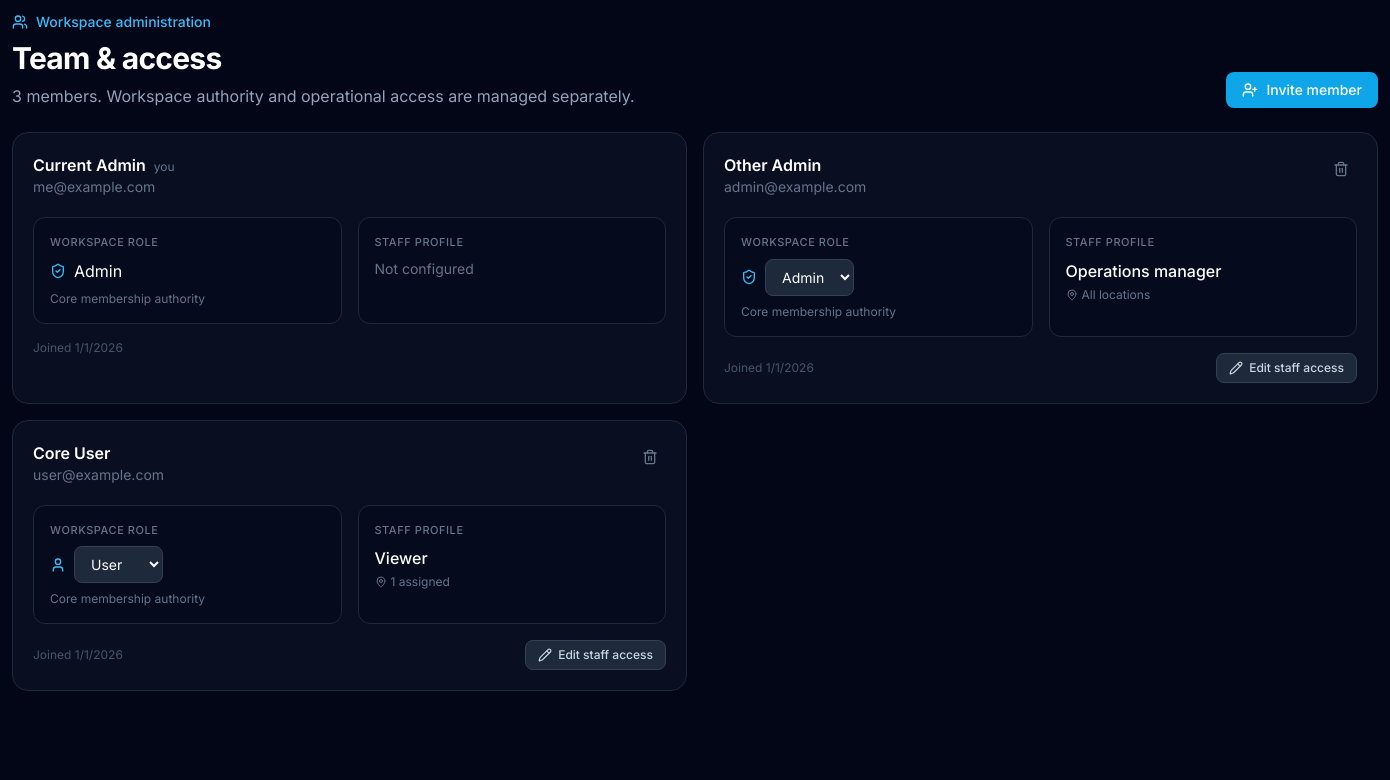
Test case: TeamPage workspace restrictions › allows owners to edit non-owner profiles and disables role controls while saving
The width and height of the screenshot is (1390, 780).
Check: the heading "Other Admin" is shown, box [724,155,821,175]
Check: the number of buttons "Edit staff access" is 2, box [1216,352,1357,382]; [525,640,666,670]
Select "User" in the dropdown named "Workspace role for Other Admin". click: (810,277)
box: [765,258,854,296]
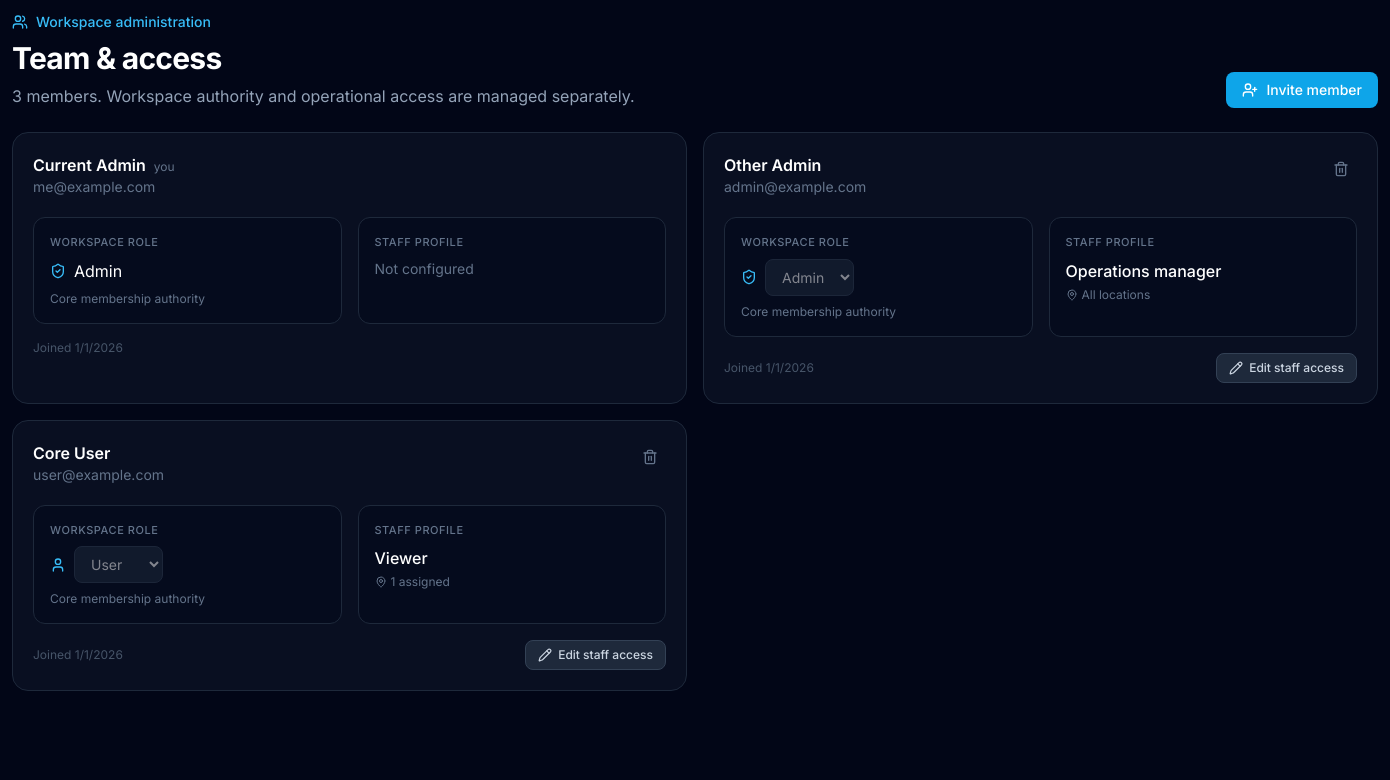
Check: the dropdown named "Workspace role for Other Admin" is disabled, box [765,258,854,296]
